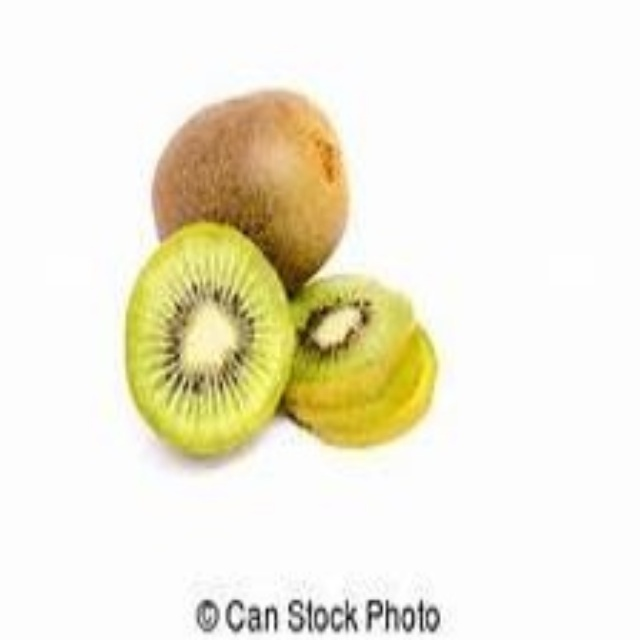kiwi: (130, 231, 299, 462), (162, 89, 344, 296), (289, 267, 435, 446)
